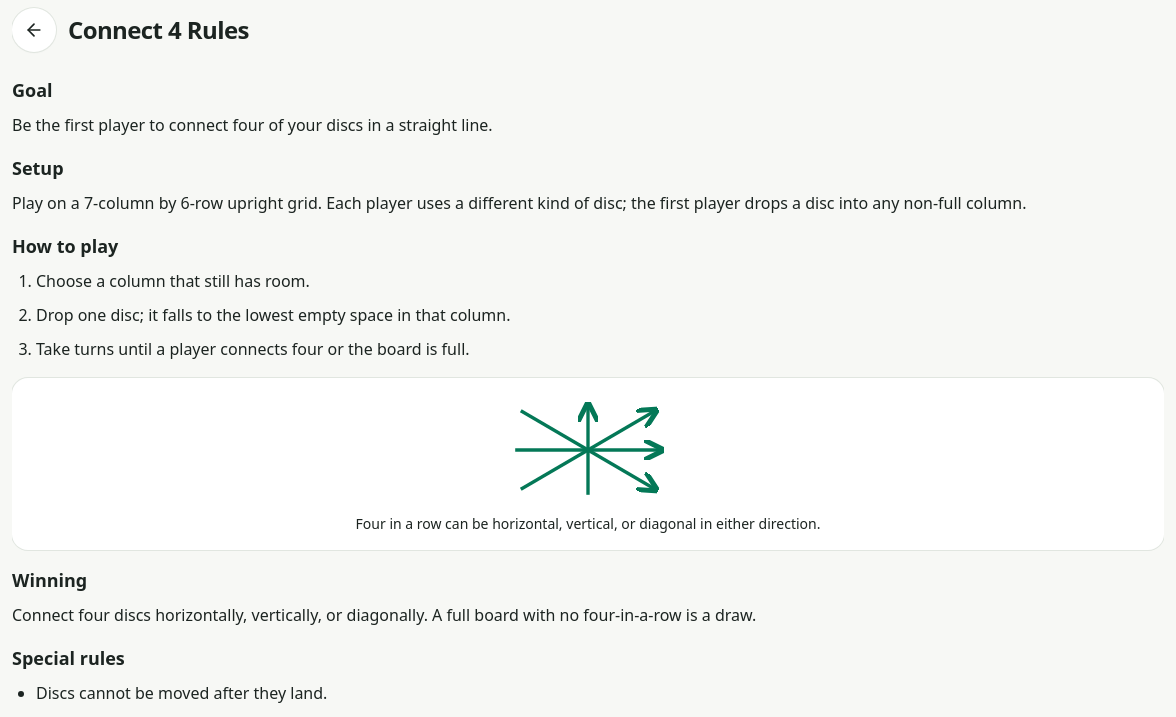
How to play rules › returns to the selected game setup from the rules back arrow
This screenshot has width=1176, height=717.
Step 1. Click the link named "Go back" → (34, 30), box [12, 8, 56, 52]
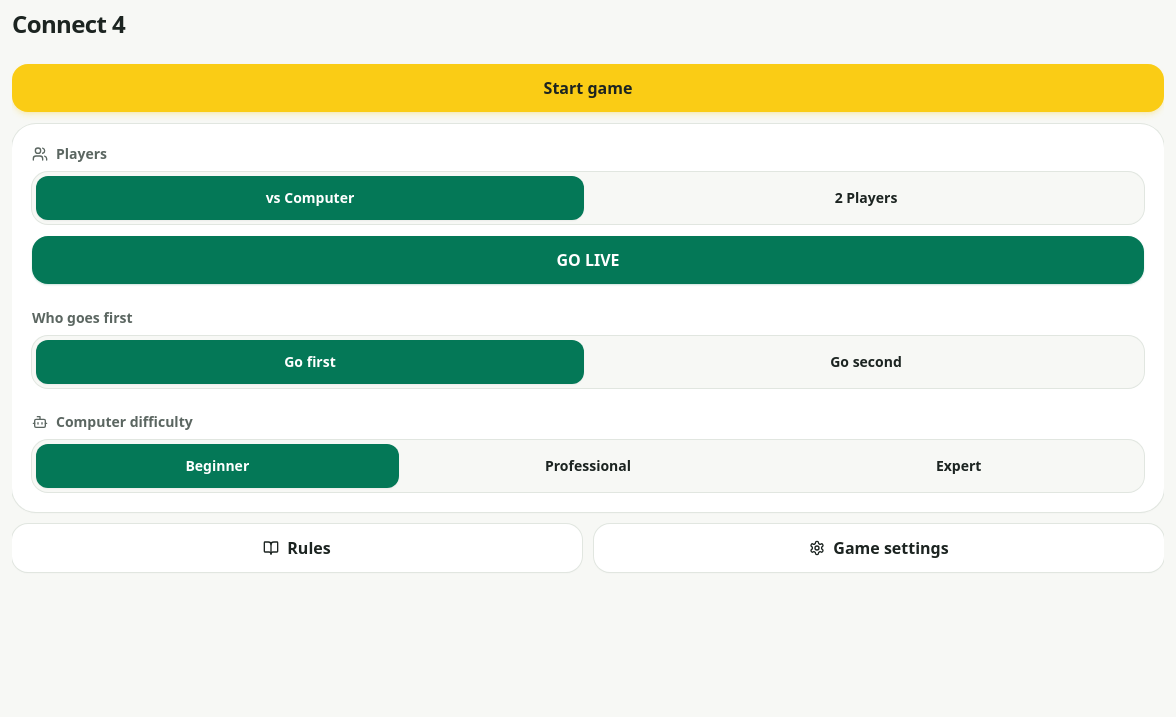
Check: the button "Start game" is shown, box [12, 64, 1164, 112]
